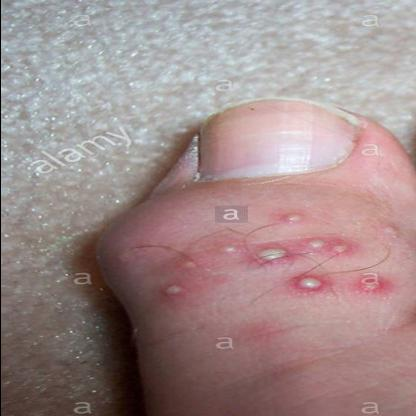Fire ant: (152, 207, 404, 306)
